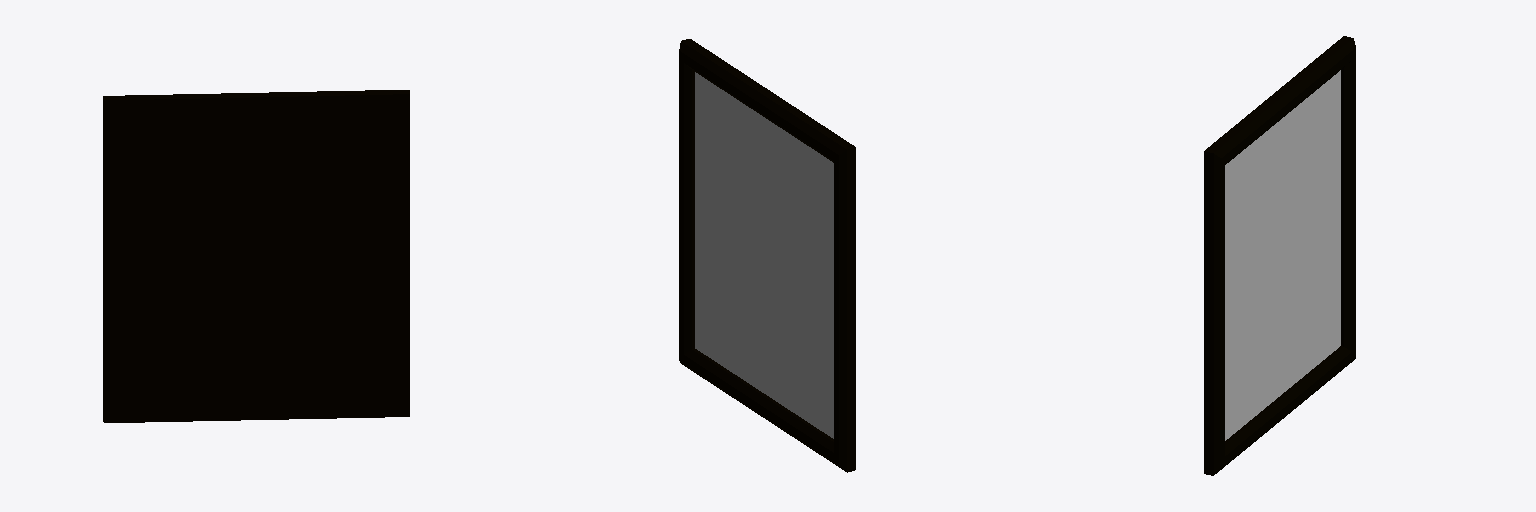
3 views of the same model, side by side, from view 1: azimuth 30°, elevation 25°; view 2: azimuth 150°, elevation 25°; view 3: azimuth 270°, elevation 25° (orthographic).
Visible parts, largest first — view 1: jundi_red; view 2: jundi_red; view 3: jundi_red.
Part boxes in pixels (bbox=[...]): jundi_red: bbox=[103, 90, 409, 422]; jundi_red: bbox=[679, 39, 855, 472]; jundi_red: bbox=[1204, 36, 1355, 475].
Bounding box in the file's own units: 12.46 × 15.98 × 6.83.